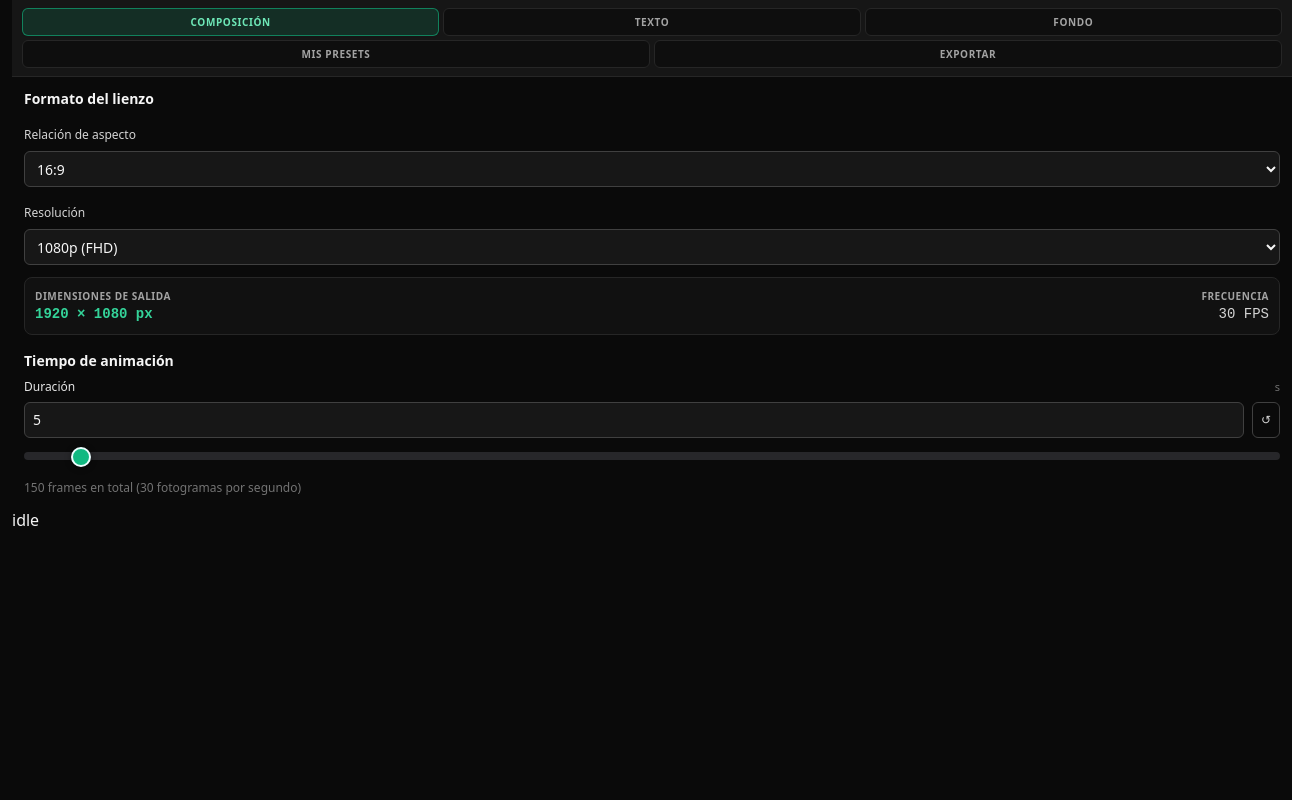
Test case: InspectorPanel tabs › rechaza selector individual desde la UI real y deja estado failed sin render ni escritura
Click the tab "Exportar" at (968, 54), box [654,40,1282,68]
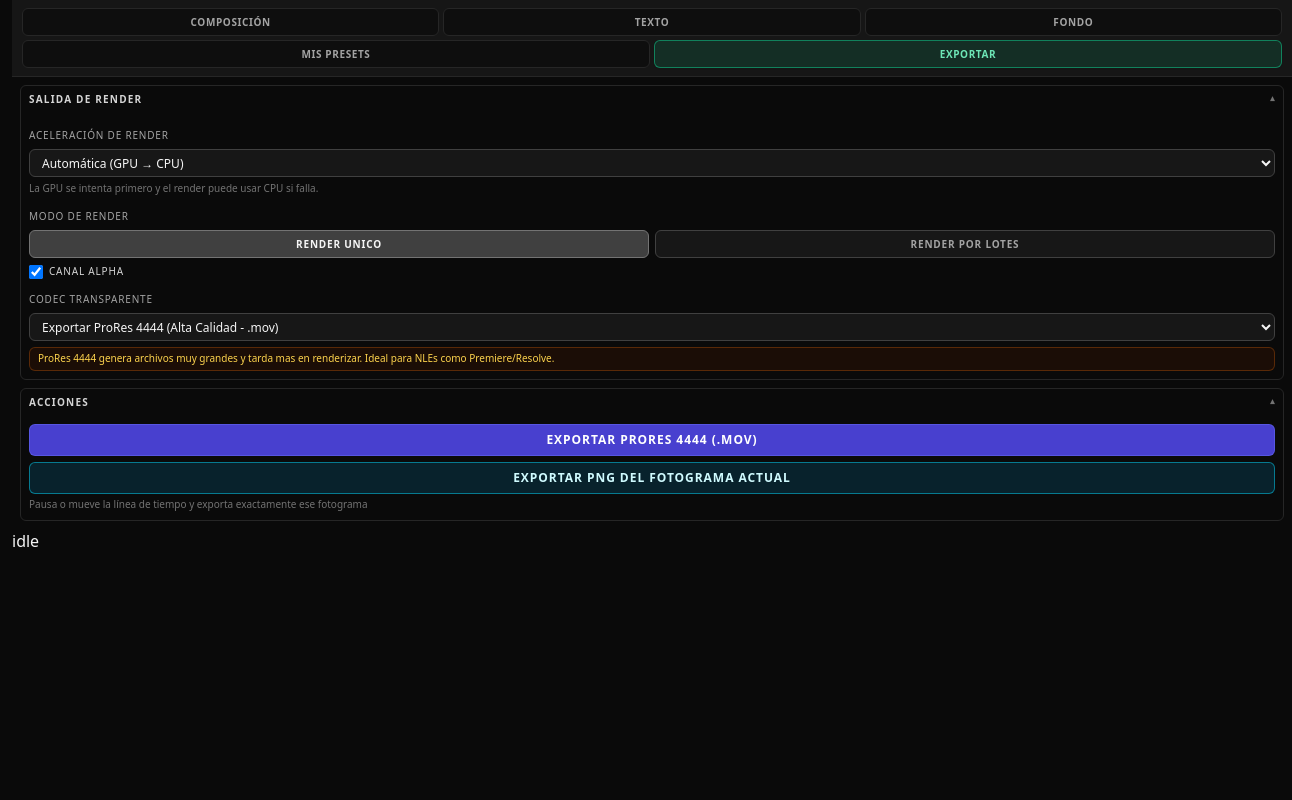
Click the button "Exportar ProRes 4444 (.mov)" at (652, 440), box [29,424,1275,456]
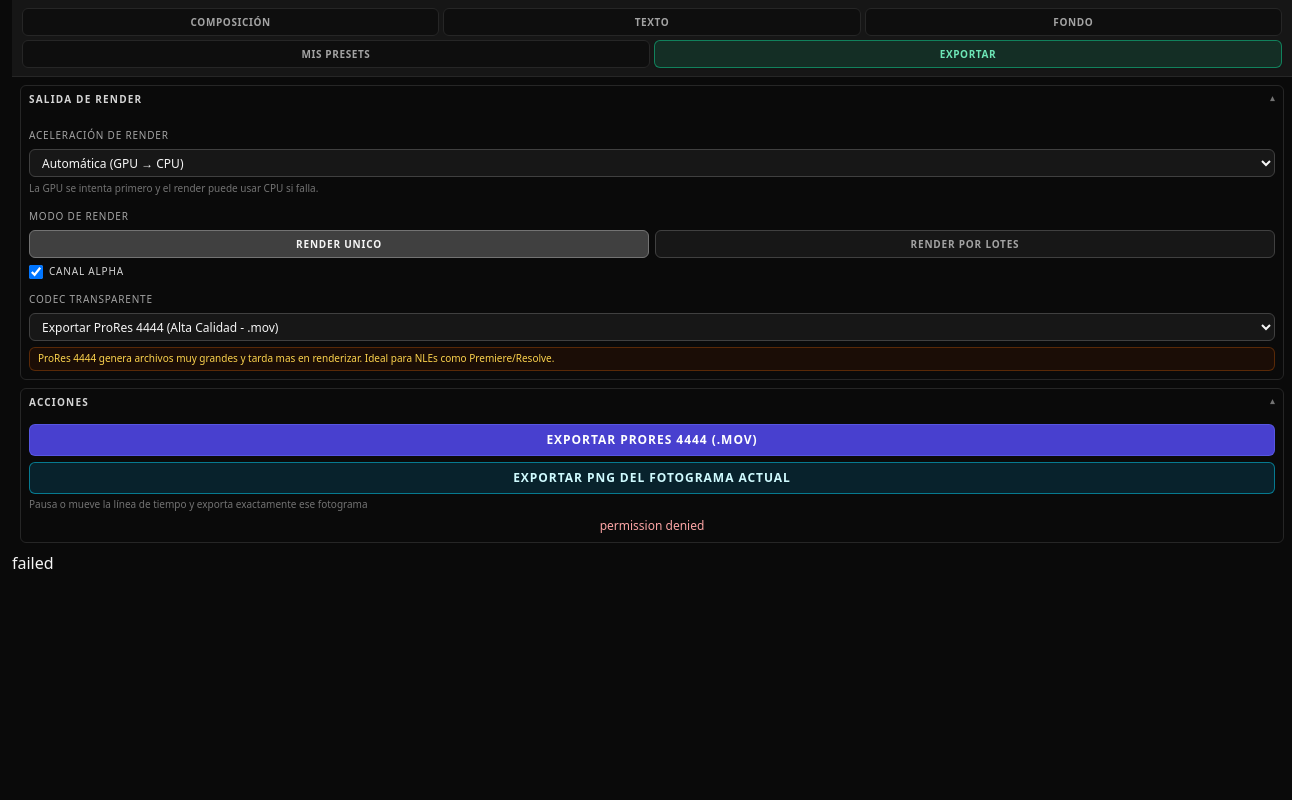
Expected: the button "Exportar ProRes 4444 (.mov)" is enabled, [29,424,1275,456]
Expected: the text with test id "export-status" reads "failed", [12,552,54,574]
